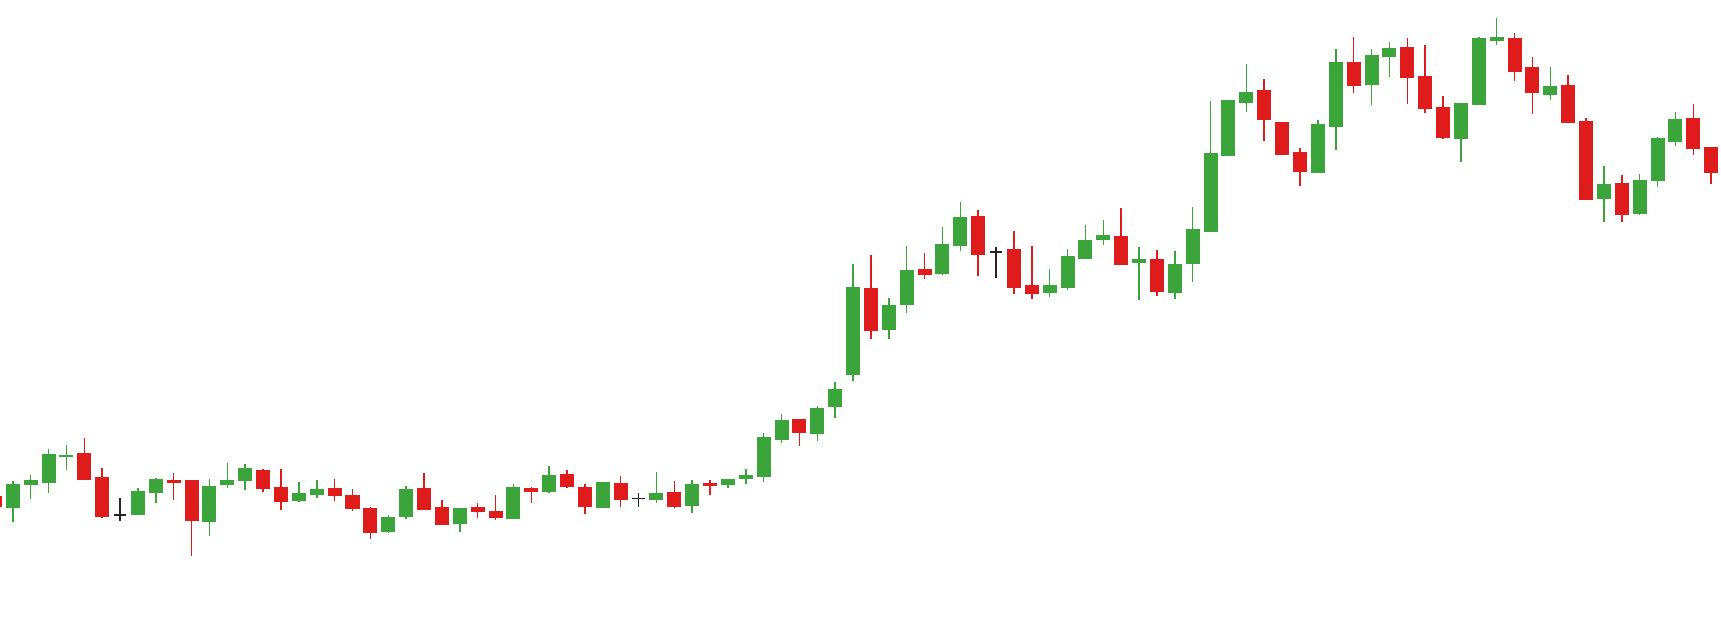sell: (1345, 20, 1523, 110)
